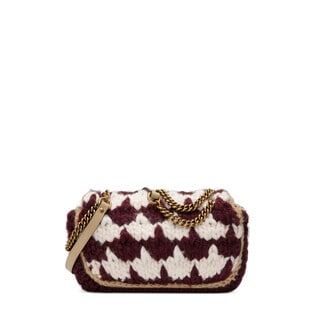Gucci: (64, 183, 248, 293)
